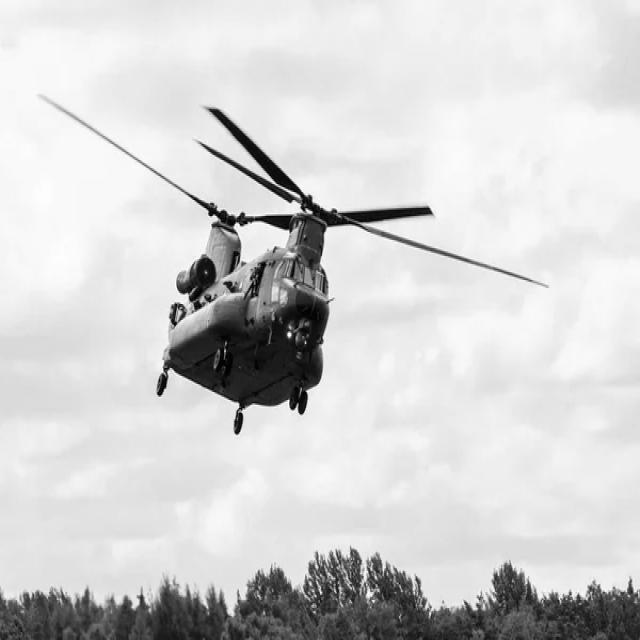Helicopter: (43, 98, 522, 434)
